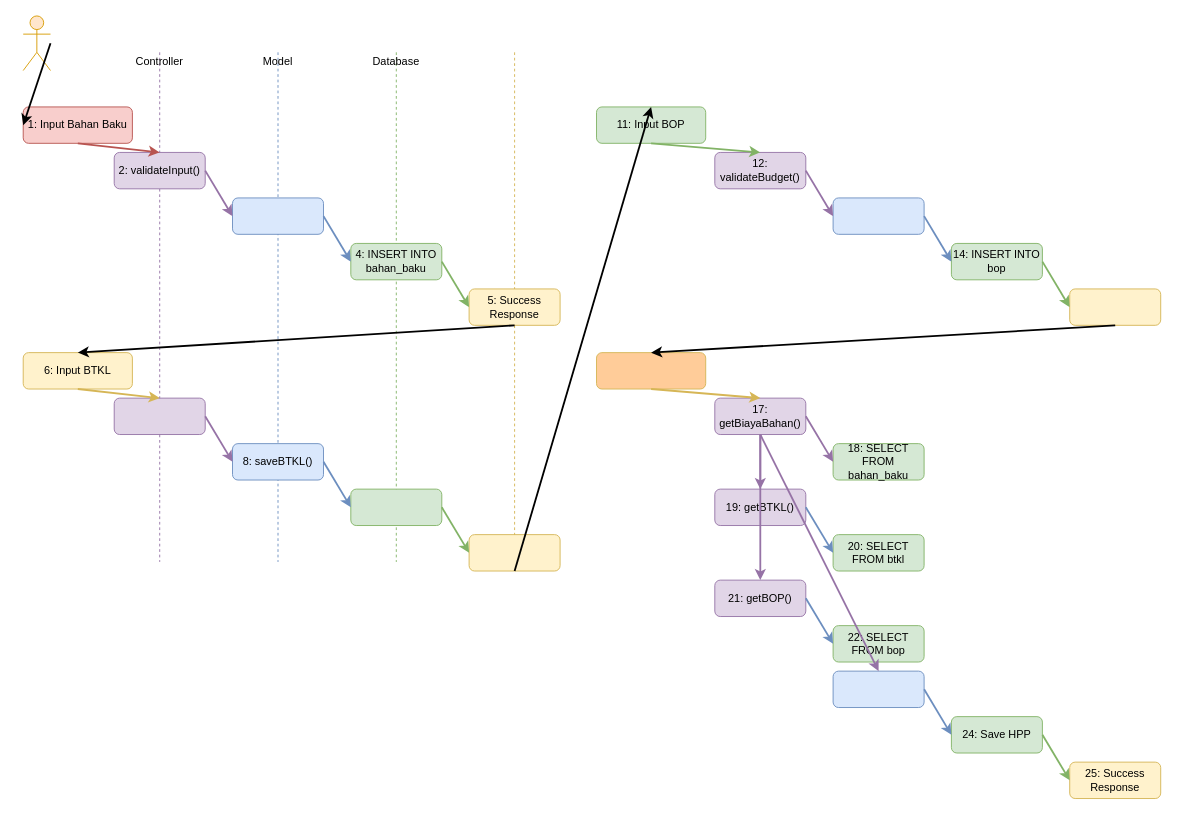
Image size: 1177x814. Some labels were removed from this diagram. Each missing label, with the box of its shape:
10: Success Response: (468, 534, 560, 571)
13: saveBOP(): (832, 197, 924, 234)
15: Success Response: (1069, 288, 1161, 325)
16: Calculate HPP: (596, 352, 706, 389)
23: calculateHPP(): (832, 670, 924, 708)
3: saveBahanBaku(): (232, 197, 324, 234)
7: calculateBTKL(): (113, 397, 205, 435)
9: INSERT INTO btkl: (350, 488, 442, 526)
User: (22, 15, 51, 71)
View: (468, 15, 560, 562)
